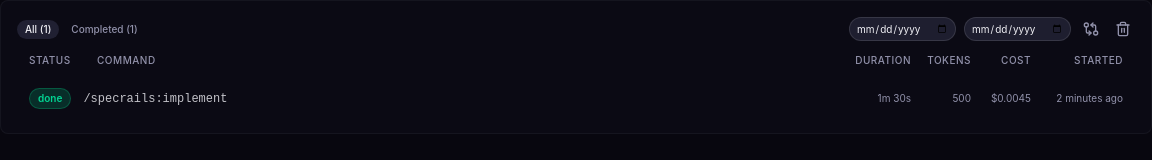
Scenario: RecentJobs - extended coverage › date range filter › clears date filters when "Clear" link is clicked
Type "2024-01-01" into the date field titled "From date". click: [902, 29]
box: [849,17,956,41]
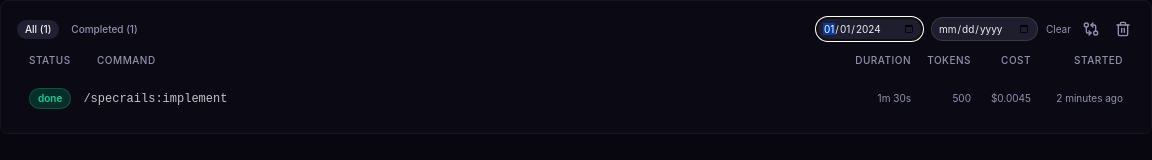
// "Clear" button appears when dateFrom/dateTo are set
Click the button "Clear". click: [1058, 29]
box: [1046,22,1071,36]
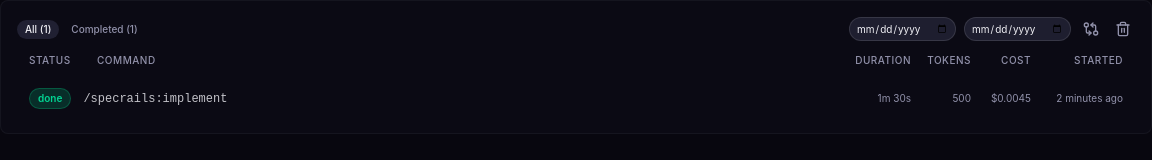
Now the button "Clear" is gone
